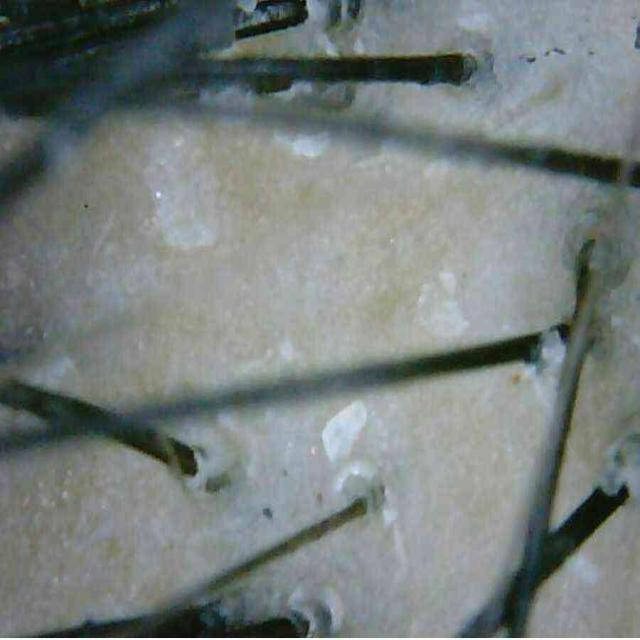d: (322, 400, 368, 462), (534, 327, 566, 411), (291, 135, 324, 157)
ds: (460, 2, 640, 138), (142, 121, 218, 250)
